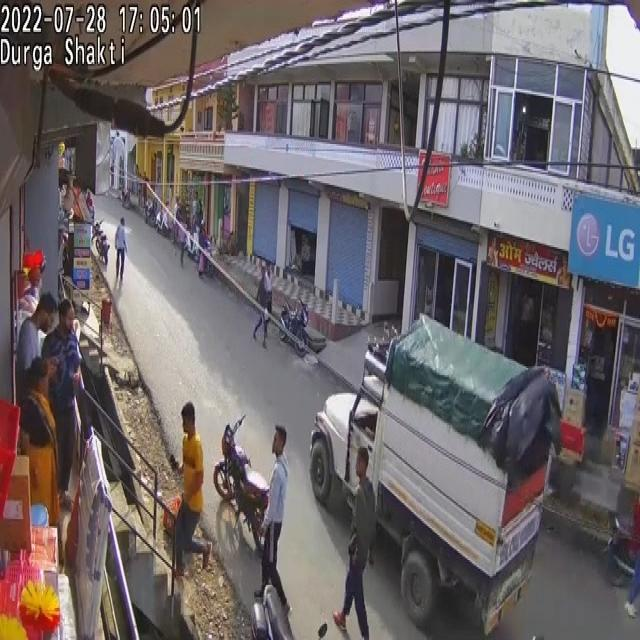non-fight: (332, 446, 377, 640), (44, 298, 83, 500), (20, 355, 61, 542), (170, 402, 212, 579), (253, 422, 290, 616), (16, 287, 50, 406), (352, 477, 377, 562), (264, 454, 288, 529), (253, 264, 273, 345), (114, 216, 126, 283), (179, 206, 190, 266), (198, 222, 210, 276), (188, 181, 202, 208)
